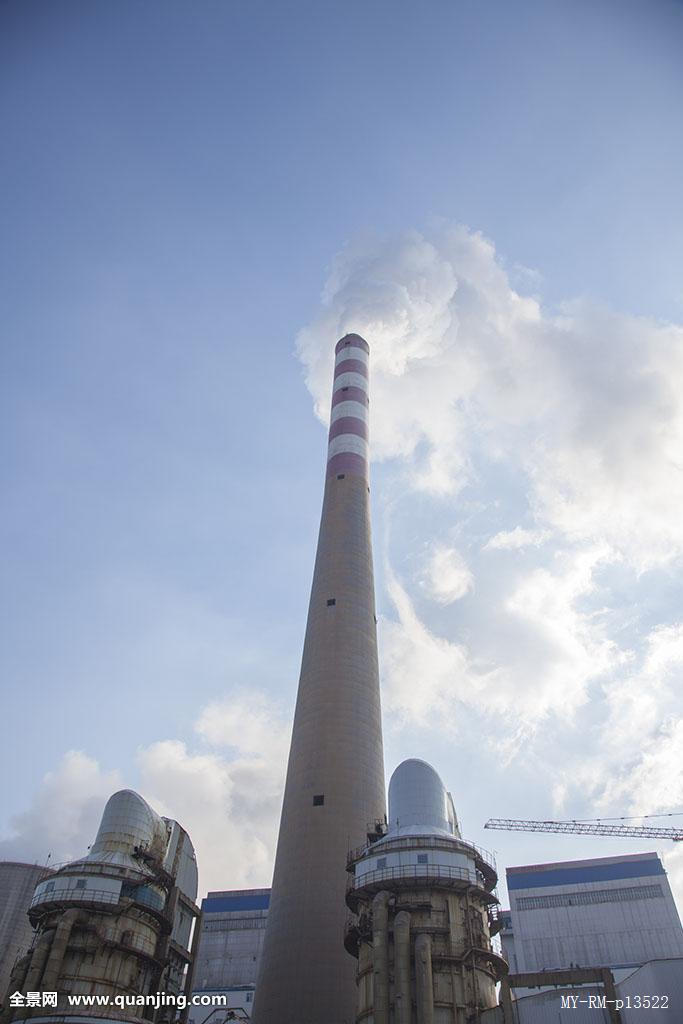dust: (292, 219, 526, 366)
